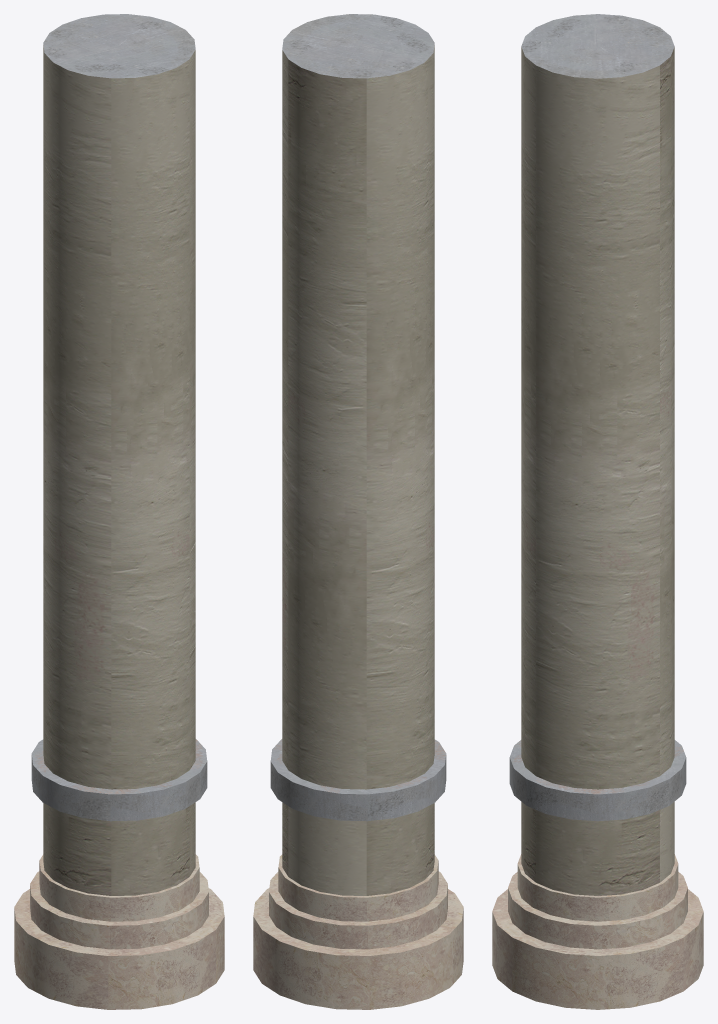
Rendered from Geo_SupportBeamT.fbx.
The picture shows the model from 3 angles, left to right: view 1: azimuth 30°, elevation 25°; view 2: azimuth 150°, elevation 25°; view 3: azimuth 270°, elevation 25°; orthographic projection.
Parts seen in each view (by area): view 1: Geo_SupportBeam; view 2: Geo_SupportBeam; view 3: Geo_SupportBeam.
Boxes of the visible parts, x1,y1,x2,y2 form: Geo_SupportBeam: [14, 14, 224, 1009]; Geo_SupportBeam: [253, 14, 463, 1009]; Geo_SupportBeam: [492, 14, 703, 1009].
Size of the model in its own units: 2.76 by 13.23 by 2.76.
1 material, 1 textured.
